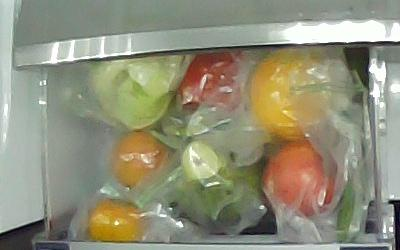apple_vinyl: (263, 142, 335, 218)
broccoli_vinyl: (168, 141, 263, 227)
cucumber_vinyl: (336, 46, 369, 244)
grapefruit_vinyl: (249, 49, 327, 141)
lettuce_vinyl: (88, 53, 196, 131)
paprika_vinyl: (179, 49, 242, 113)
peach_vinyl: (113, 130, 169, 189)
persimmon_vinyl: (86, 199, 146, 243)
